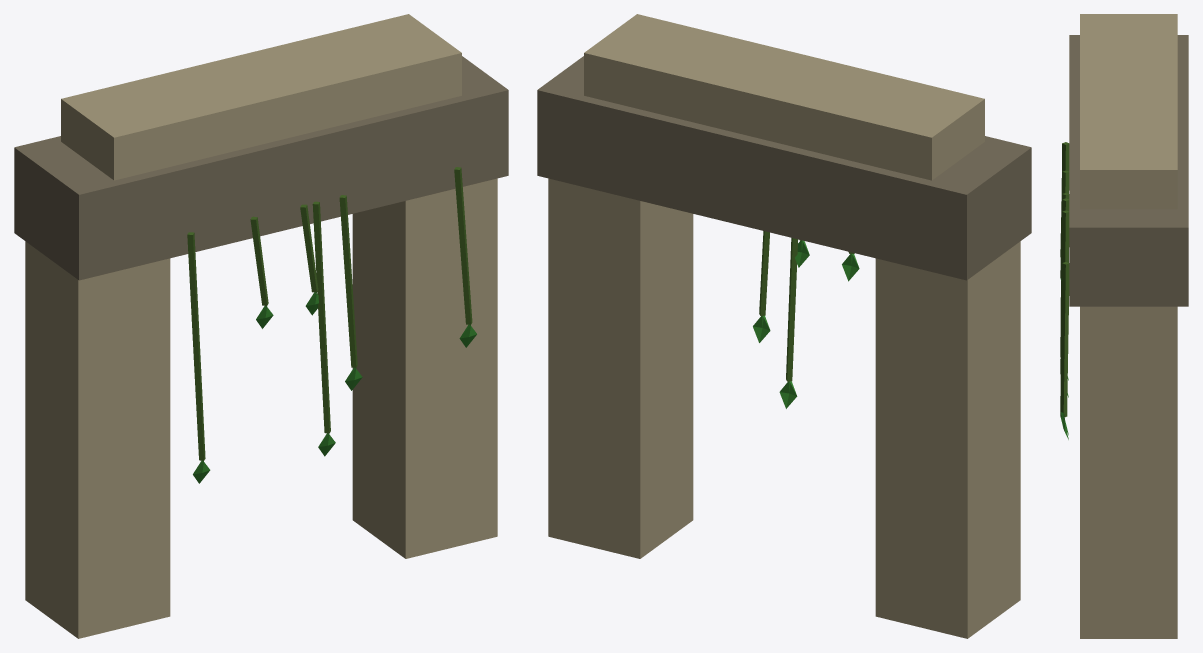
The model's file is gate.glb.
3 renders of one model, left to right at view 1: azimuth 30°, elevation 25°; view 2: azimuth 150°, elevation 25°; view 3: azimuth 270°, elevation 25°, orthographic. The views are drawn at different scales.
Visible parts, largest first — view 1: stone_temple-col, stone_temple_dark-col, vine, leaf; view 2: stone_temple-col, stone_temple_dark-col, vine, leaf; view 3: stone_temple-col, stone_temple_dark-col, vine.
Part boxes in pixels (x1,y1,x2,y2): stone_temple-col: [25, 14, 497, 638]; stone_temple_dark-col: [14, 56, 508, 280]; vine: [187, 167, 472, 460]; leaf: [193, 292, 476, 483]; stone_temple-col: [548, 14, 1020, 638]; stone_temple_dark-col: [537, 56, 1031, 280]; vine: [759, 231, 854, 381]; leaf: [753, 240, 859, 408]; stone_temple-col: [1080, 14, 1177, 638]; stone_temple_dark-col: [1069, 35, 1188, 306]; vine: [1060, 142, 1069, 417].
Bounding box in the file's own units: 4.2 × 4.6 × 1.18.
